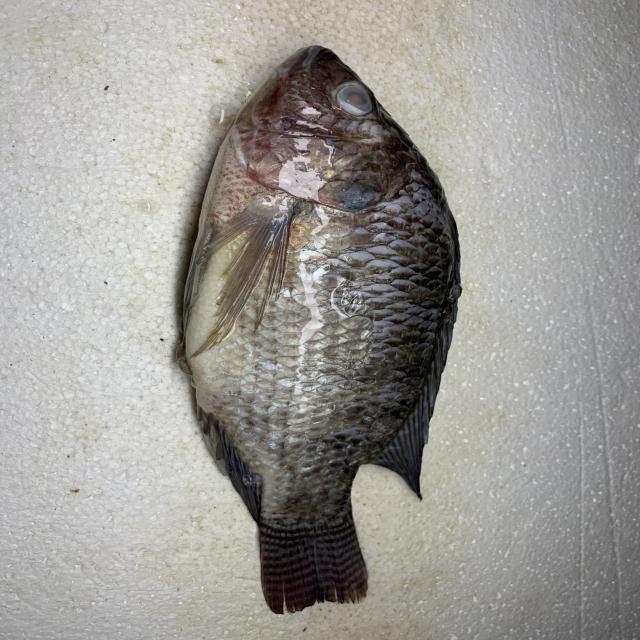Eye -2-: (330, 83, 382, 120)
Skin-4-: (156, 159, 488, 465)
Tilapia-F-6-10-: (157, 35, 495, 627)
